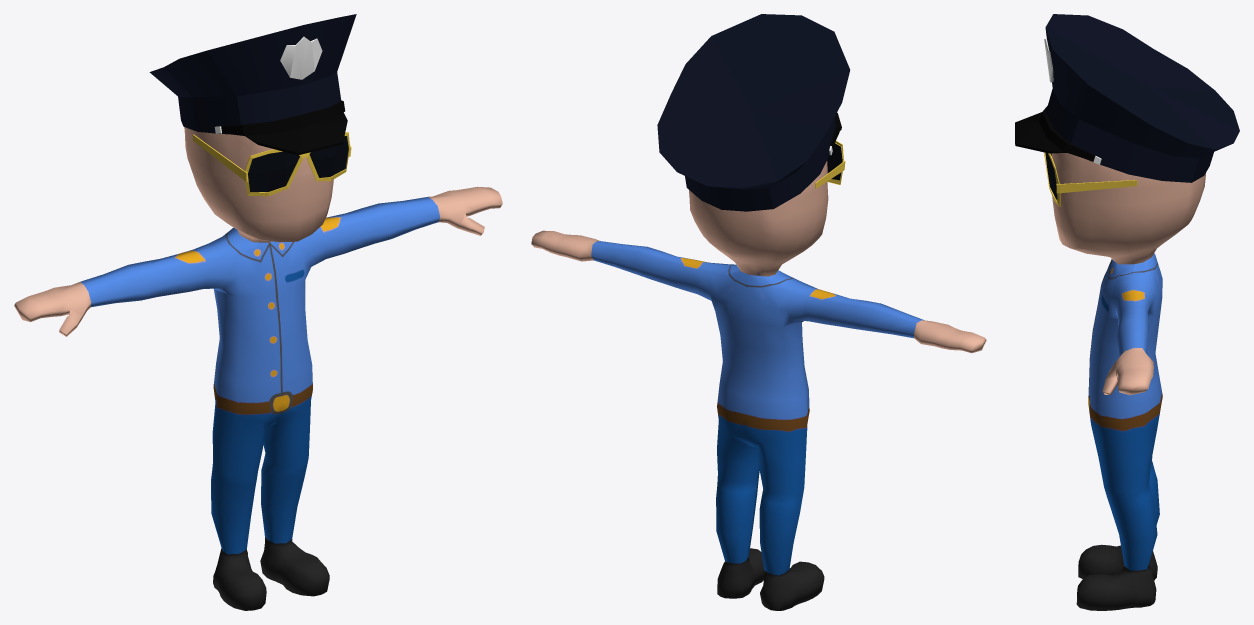
Rendered from police_model.obj.
3 views of the same model, side by side, from view 1: azimuth 30°, elevation 25°; view 2: azimuth 150°, elevation 25°; view 3: azimuth 270°, elevation 25° (orthographic). The views are drawn at different scales.
Visible parts, largest first — view 1: policia:policepolySurface5polySurface13, policia:policepolySurface10, policia:policepolySurface12polySurface5, policia:policepolySurface6, policia:policepolySurface9, policia:policepolySurface11; view 2: policia:policepolySurface5polySurface13, policia:policepolySurface10, policia:policepolySurface12polySurface5; view 3: policia:policepolySurface10, policia:policepolySurface5polySurface13, policia:policepolySurface12polySurface5, policia:policepolySurface9, policia:policepolySurface7, policia:policepolySurface6.
Boxes of the visible parts, <box> form: policia:policepolySurface5polySurface13: <box>14,186,502,610</box>; policia:policepolySurface10: <box>149,14,356,155</box>; policia:policepolySurface12polySurface5: <box>184,127,333,242</box>; policia:policepolySurface6: <box>244,132,349,196</box>; policia:policepolySurface9: <box>214,100,345,135</box>; policia:policepolySurface11: <box>280,36,322,79</box>; policia:policepolySurface5polySurface13: <box>531,230,986,610</box>; policia:policepolySurface10: <box>657,14,850,211</box>; policia:policepolySurface12polySurface5: <box>689,161,828,276</box>; policia:policepolySurface10: <box>1015,14,1239,182</box>; policia:policepolySurface5polySurface13: <box>1076,253,1162,610</box>; policia:policepolySurface12polySurface5: <box>1051,153,1205,264</box>; policia:policepolySurface9: <box>1039,106,1101,164</box>; policia:policepolySurface7: <box>1056,180,1137,193</box>; policia:policepolySurface6: <box>1044,152,1060,206</box>.
Bounding box in the file's own units: 366 × 430 × 156.
6 materials, 1 textured.
